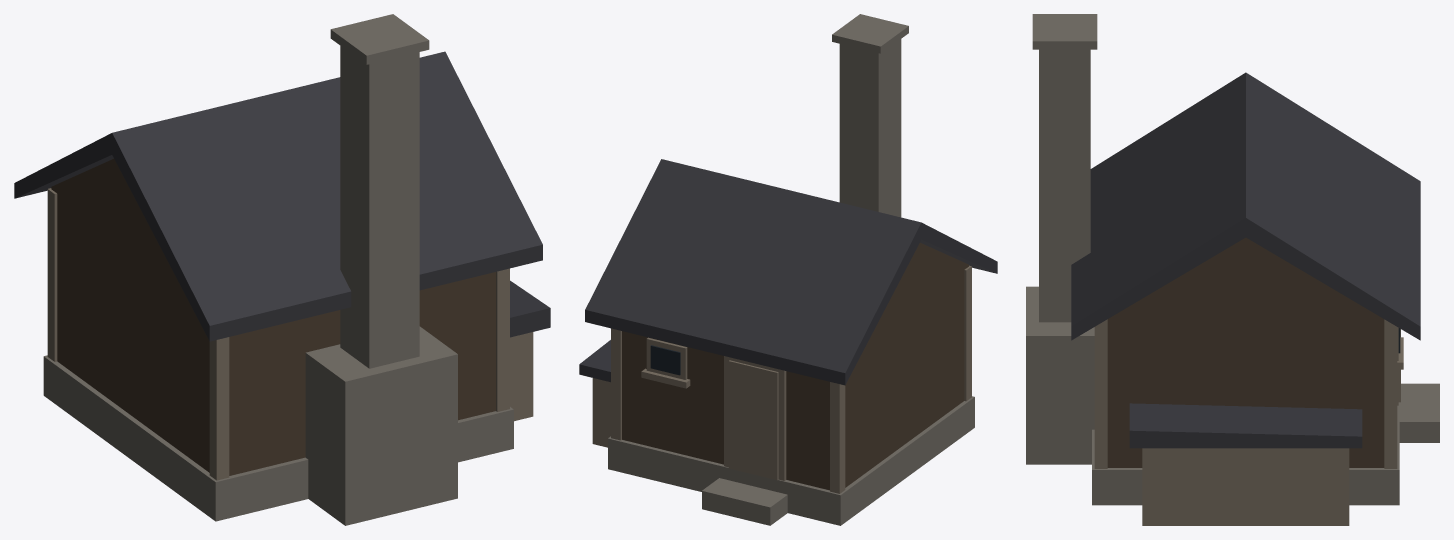
Rendered from smokehouse.glb.
3 renders of one model, left to right at view 1: azimuth 30°, elevation 25°; view 2: azimuth 150°, elevation 25°; view 3: azimuth 270°, elevation 25°, orthographic. The views are drawn at different scales.
Visible parts, largest first — view 1: smokehouse; view 2: smokehouse; view 3: smokehouse.
Part boxes in pixels (bbox=[...]): smokehouse: bbox=[14, 14, 550, 525]; smokehouse: bbox=[579, 14, 997, 525]; smokehouse: bbox=[1026, 14, 1439, 525].
Bounding box in the file's own units: 2.98 × 3.52 × 3.2.
